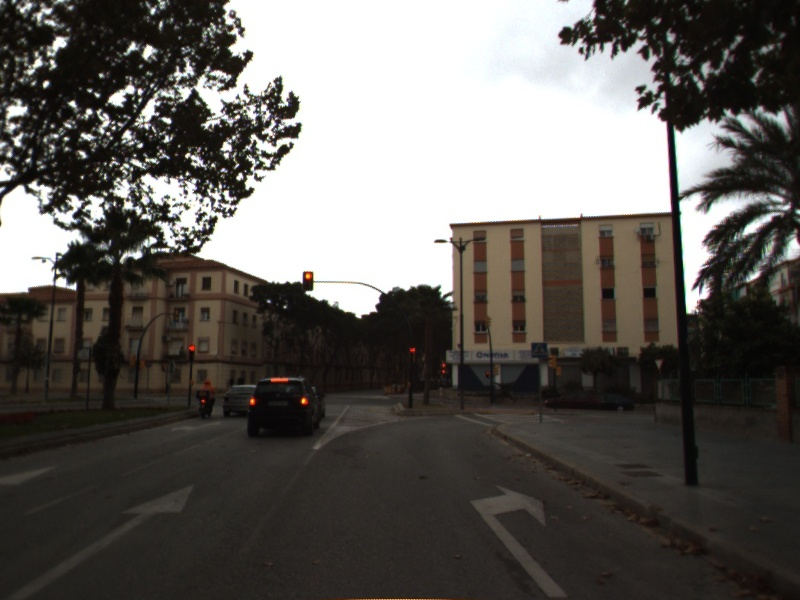RIGHT: (468, 480, 571, 598)
STRAIGHT: (1, 478, 201, 600)
